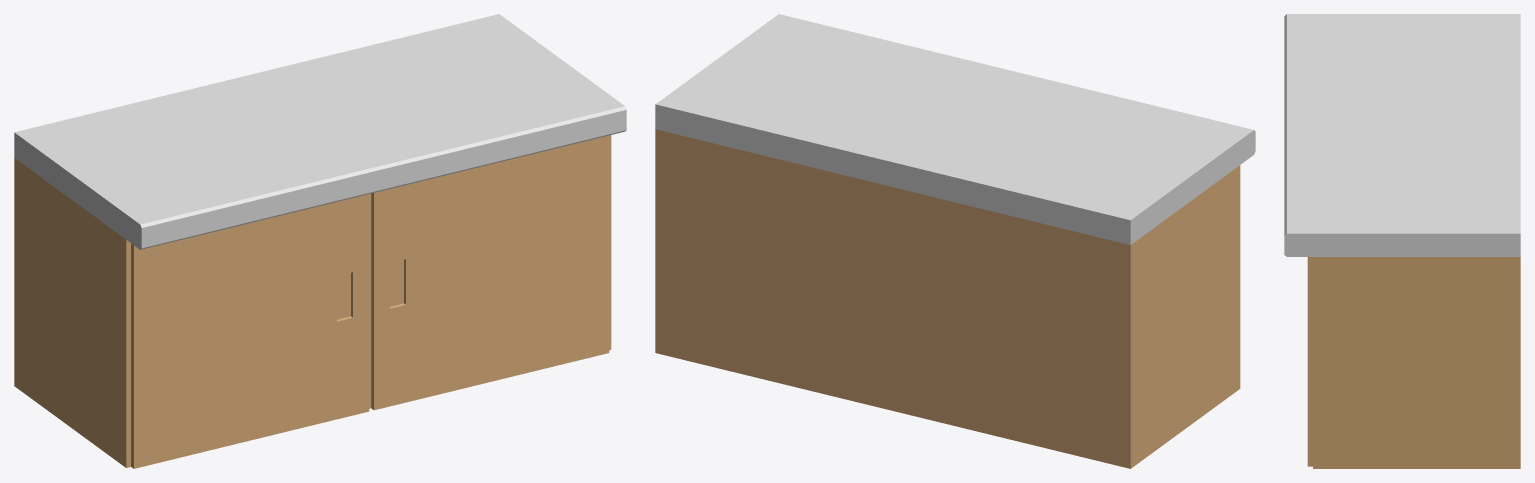
Rendered from counter1.fbx.
The picture shows the model from 3 angles, left to right: view 1: azimuth 30°, elevation 25°; view 2: azimuth 150°, elevation 25°; view 3: azimuth 270°, elevation 25°; orthographic projection. The views are drawn at different scales.
Visible parts, largest first — view 1: Cube; view 2: Cube; view 3: Cube.
Part boxes in pixels (<box>): Cube: <box>14,14,626,468</box>; Cube: <box>655,14,1255,468</box>; Cube: <box>1284,14,1520,468</box>.
Bounding box in the file's own units: 200 × 100 × 91.
